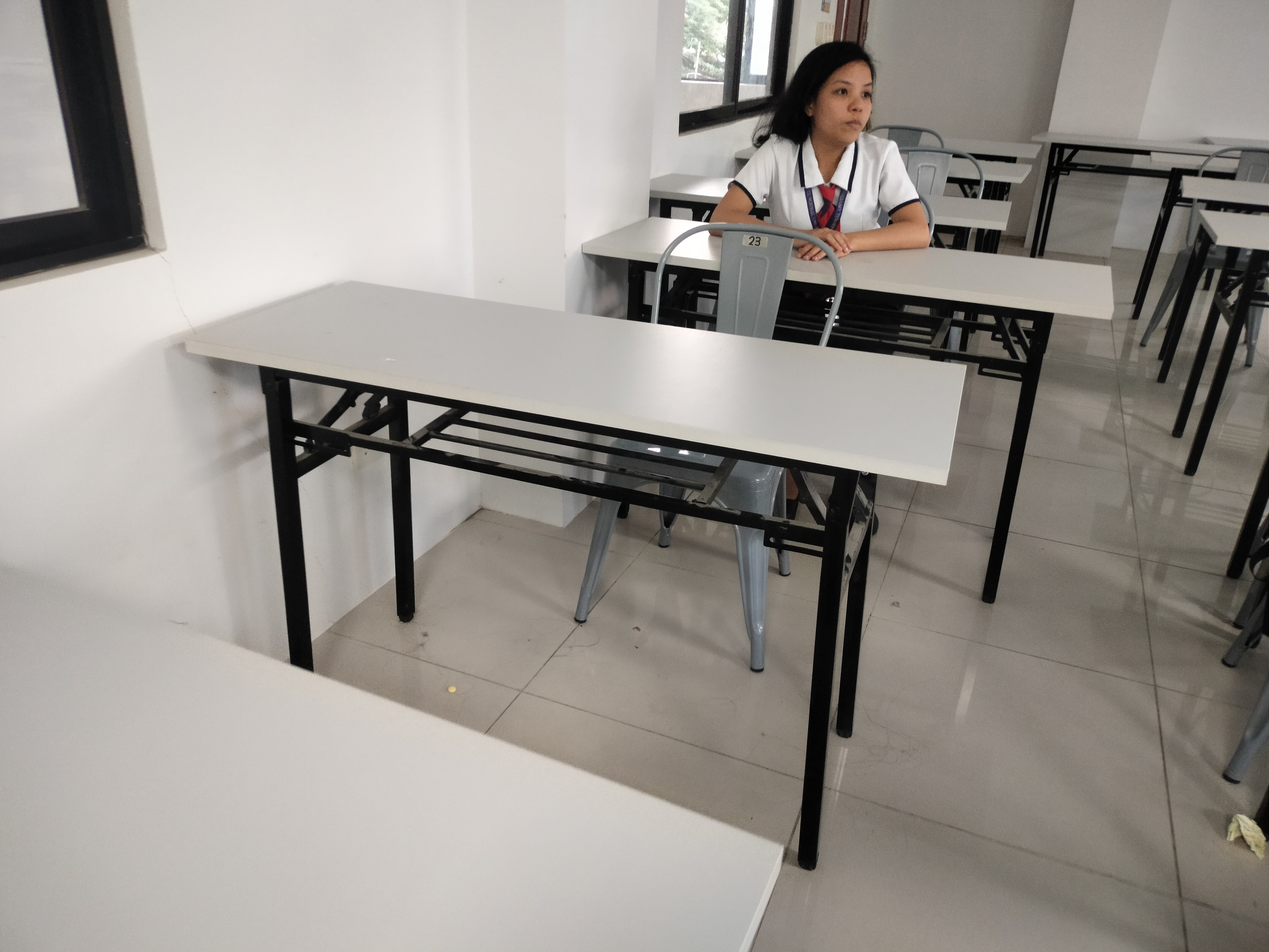with-student: (576, 36, 1122, 355)
